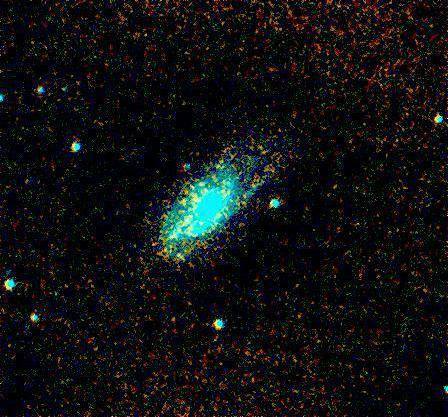star: (164, 241, 194, 271)
